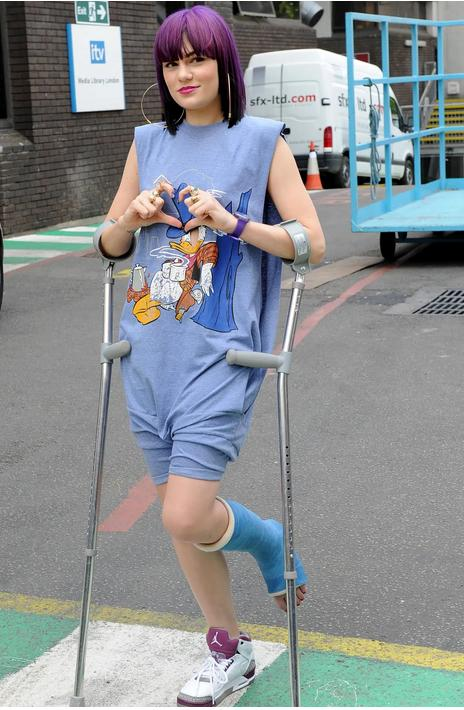crutches: (70, 4, 326, 708)
